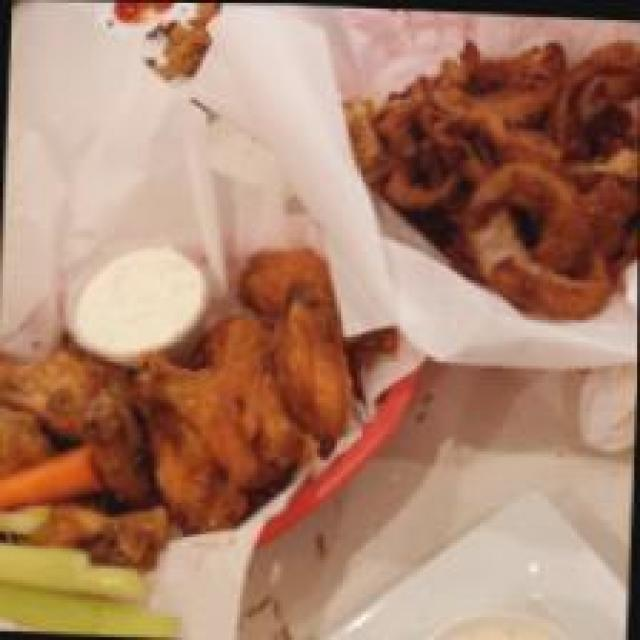Chicken Wings: (0, 217, 371, 585)
Onion Rings: (340, 18, 640, 313)
